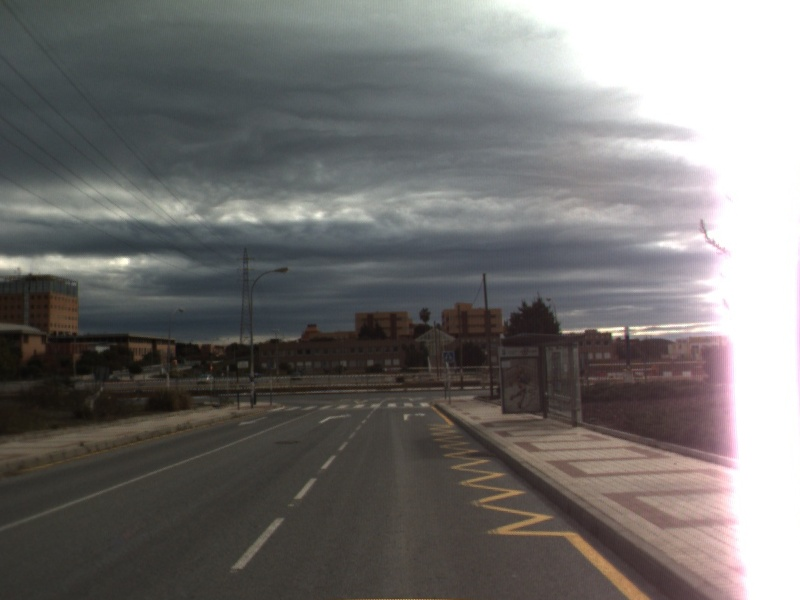RIGHT: (317, 411, 354, 425), (401, 410, 428, 423)
